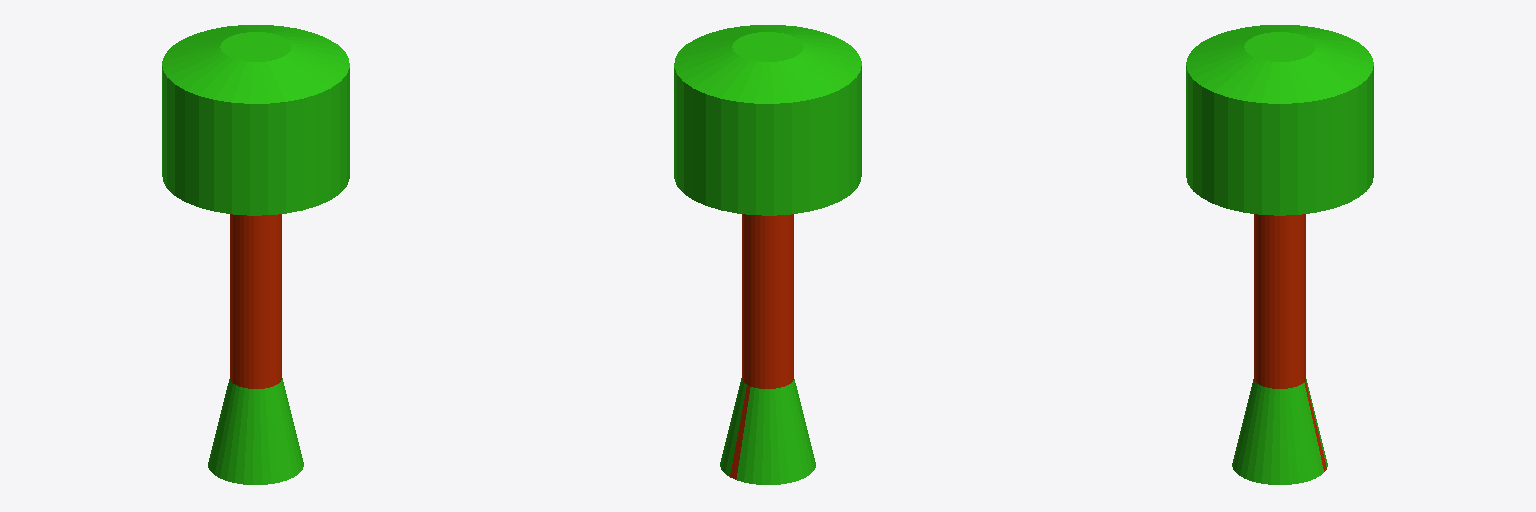
File: granate.obj
The picture shows the model from 3 angles: view 1: azimuth 30°, elevation 25°; view 2: azimuth 150°, elevation 25°; view 3: azimuth 270°, elevation 25°; orthographic projection.
Parts seen in each view (by area): view 1: Cylinder; view 2: Cylinder; view 3: Cylinder.
Part boxes in pixels (x1,y1,x2,y2): Cylinder: (162, 25, 349, 484); Cylinder: (674, 25, 861, 484); Cylinder: (1186, 25, 1373, 484).
Bounding box in the file's own units: 0.8582 × 2.1 × 0.8582.